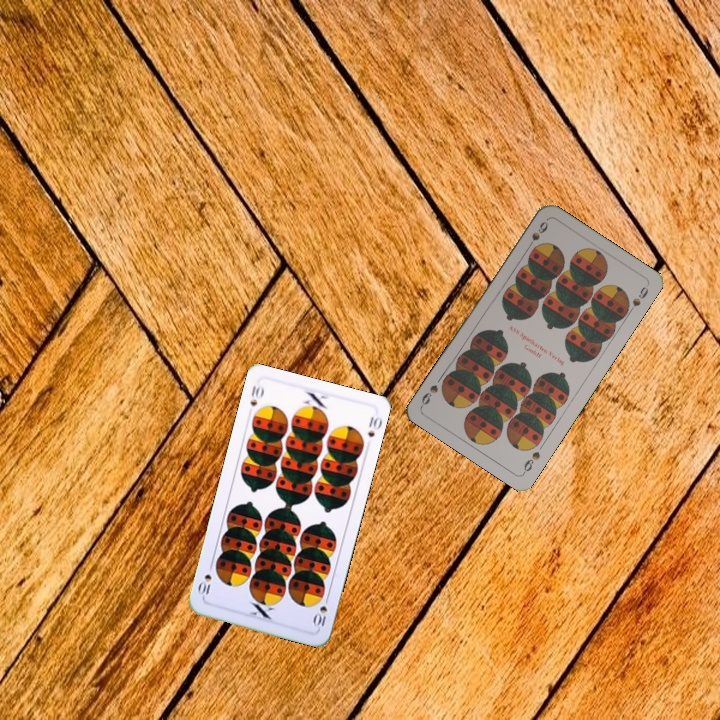S10: (309, 592, 332, 632), (246, 382, 266, 409)
S9: (523, 217, 551, 253), (519, 447, 543, 476)
